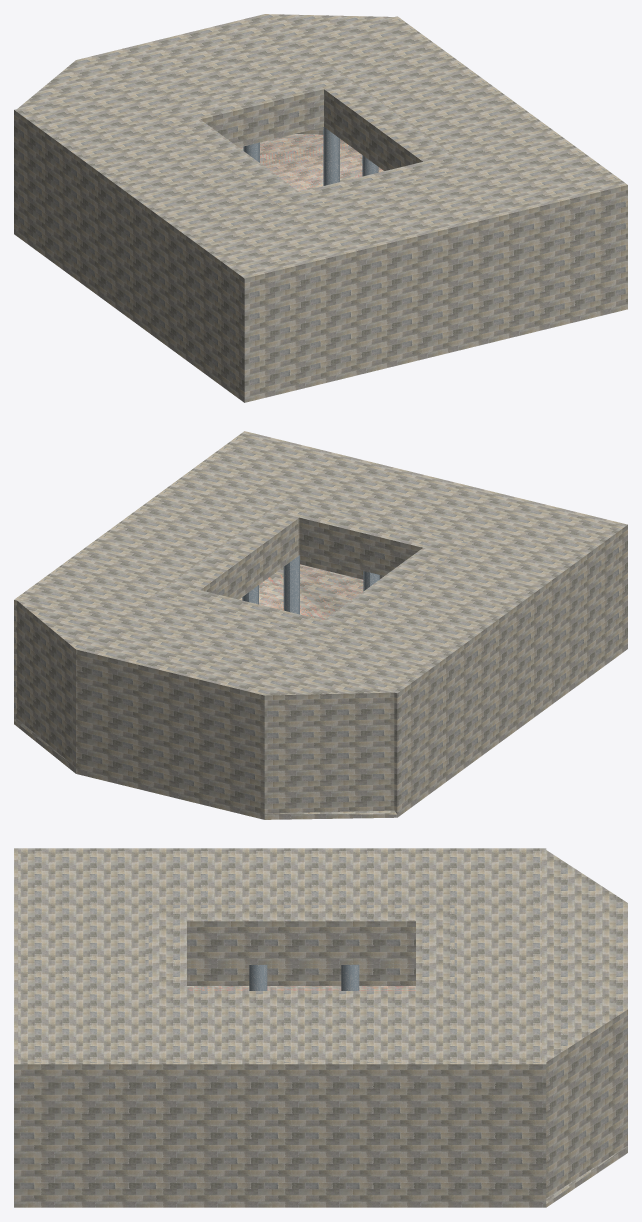
File: atrium.fbx
3 renders of one model, top to bottom at view 1: azimuth 30°, elevation 25°; view 2: azimuth 150°, elevation 25°; view 3: azimuth 270°, elevation 25°, orthographic. The views are drawn at different scales.
Visible parts, largest first — view 1: Group1, Pillar4; view 2: Group1, Pillar1; view 3: Group1.
Boxes of the visible parts, x1=… form: Group1: x1=14, y1=14, x2=627, y2=402; Pillar4: x1=323, y1=127, x2=339, y2=185; Group1: x1=14, y1=431, x2=627, y2=819; Pillar1: x1=283, y1=555, x2=299, y2=614; Group1: x1=14, y1=848, x2=627, y2=1207.
Size of the model in its own units: 15 by 5 by 18.02.
